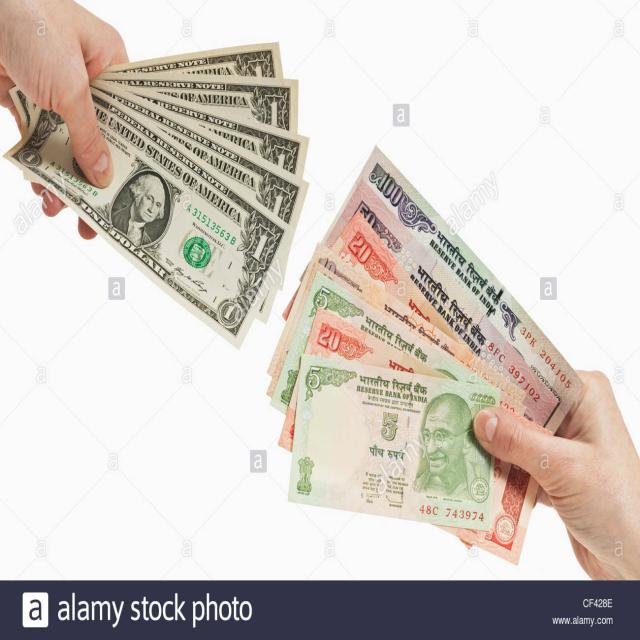5IndianRupees: (292, 361, 511, 536)
